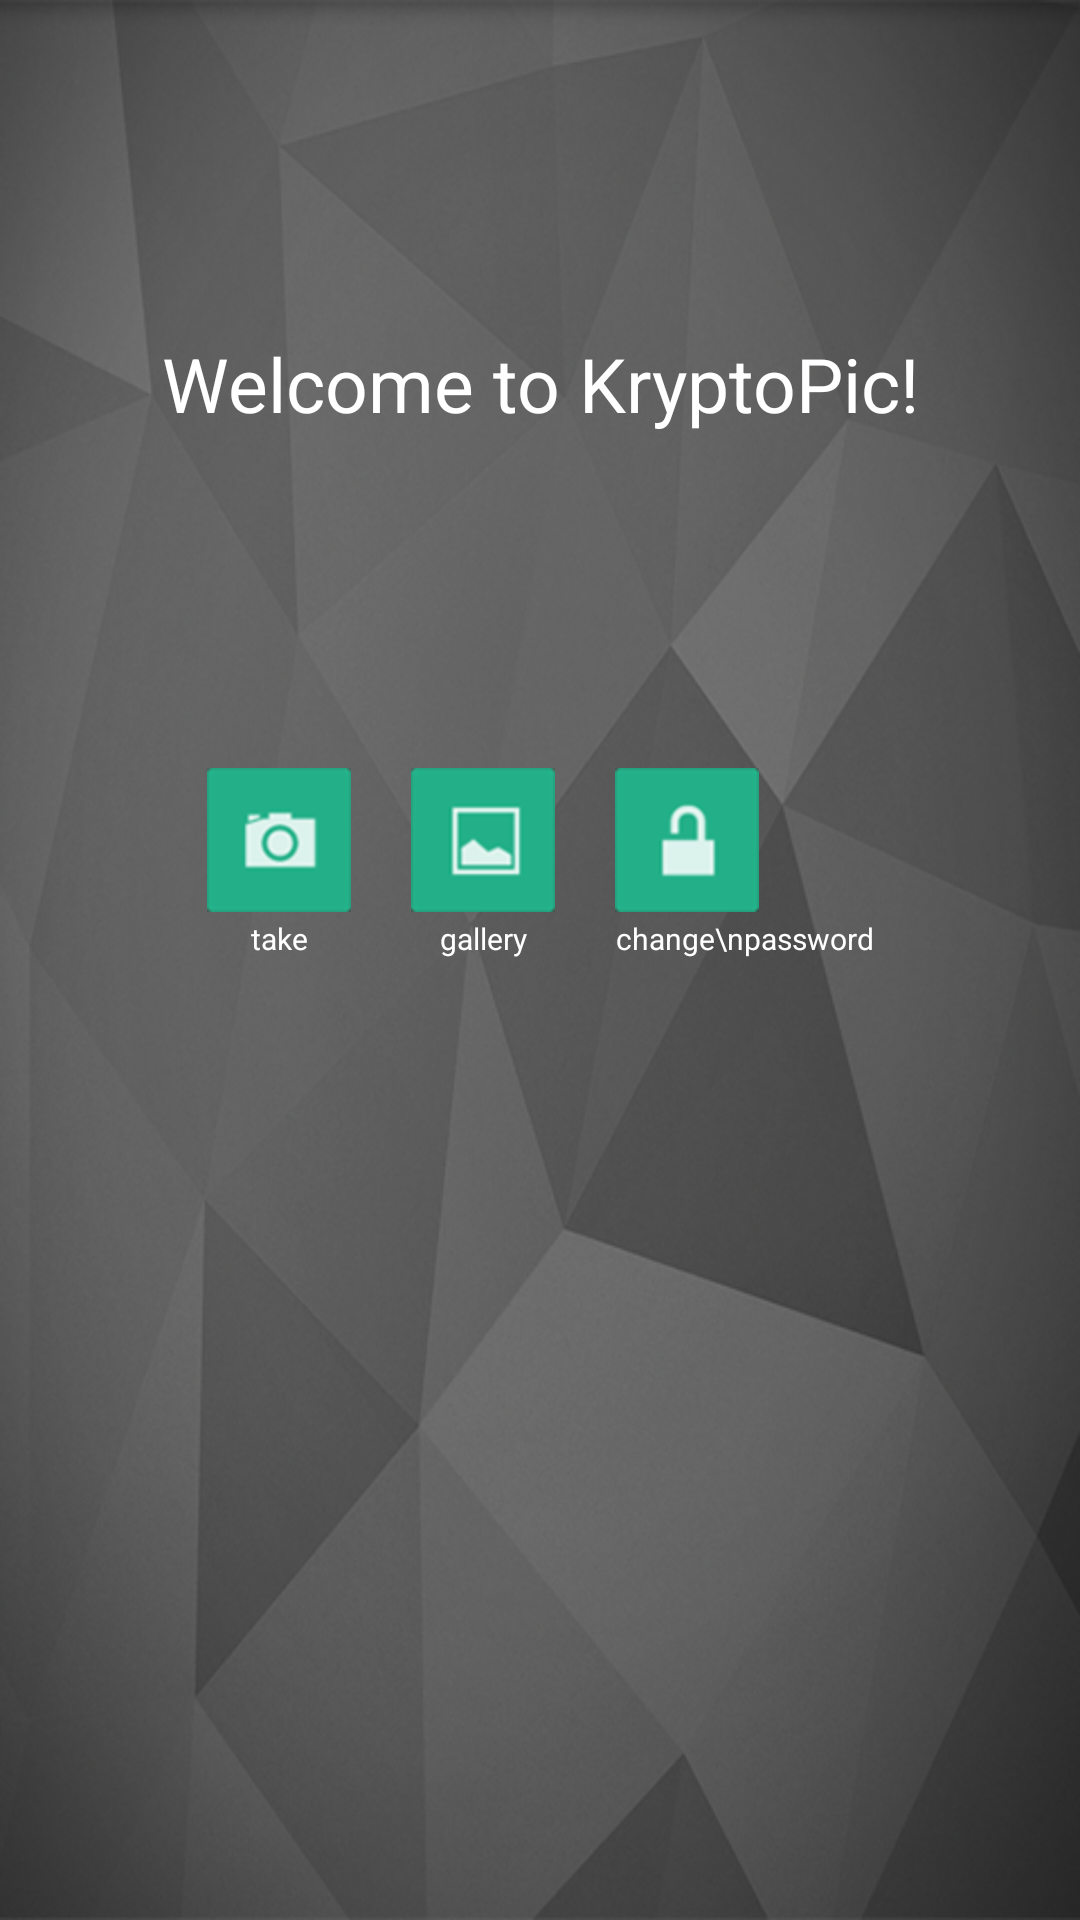

Icon bounding boxes for this 1080×1920 phone screenshot, format BBox(x1, y1, x2, y2):
camera: BBox(207, 768, 351, 912)
lock: BBox(615, 768, 783, 912)
